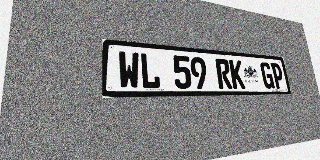5: (173, 55, 192, 89)
9: (190, 56, 208, 89)
G: (260, 62, 275, 89)
K: (229, 60, 246, 89)
L: (139, 52, 161, 89)
P: (270, 63, 285, 89)
R: (215, 58, 232, 89)
W: (118, 51, 140, 89)
